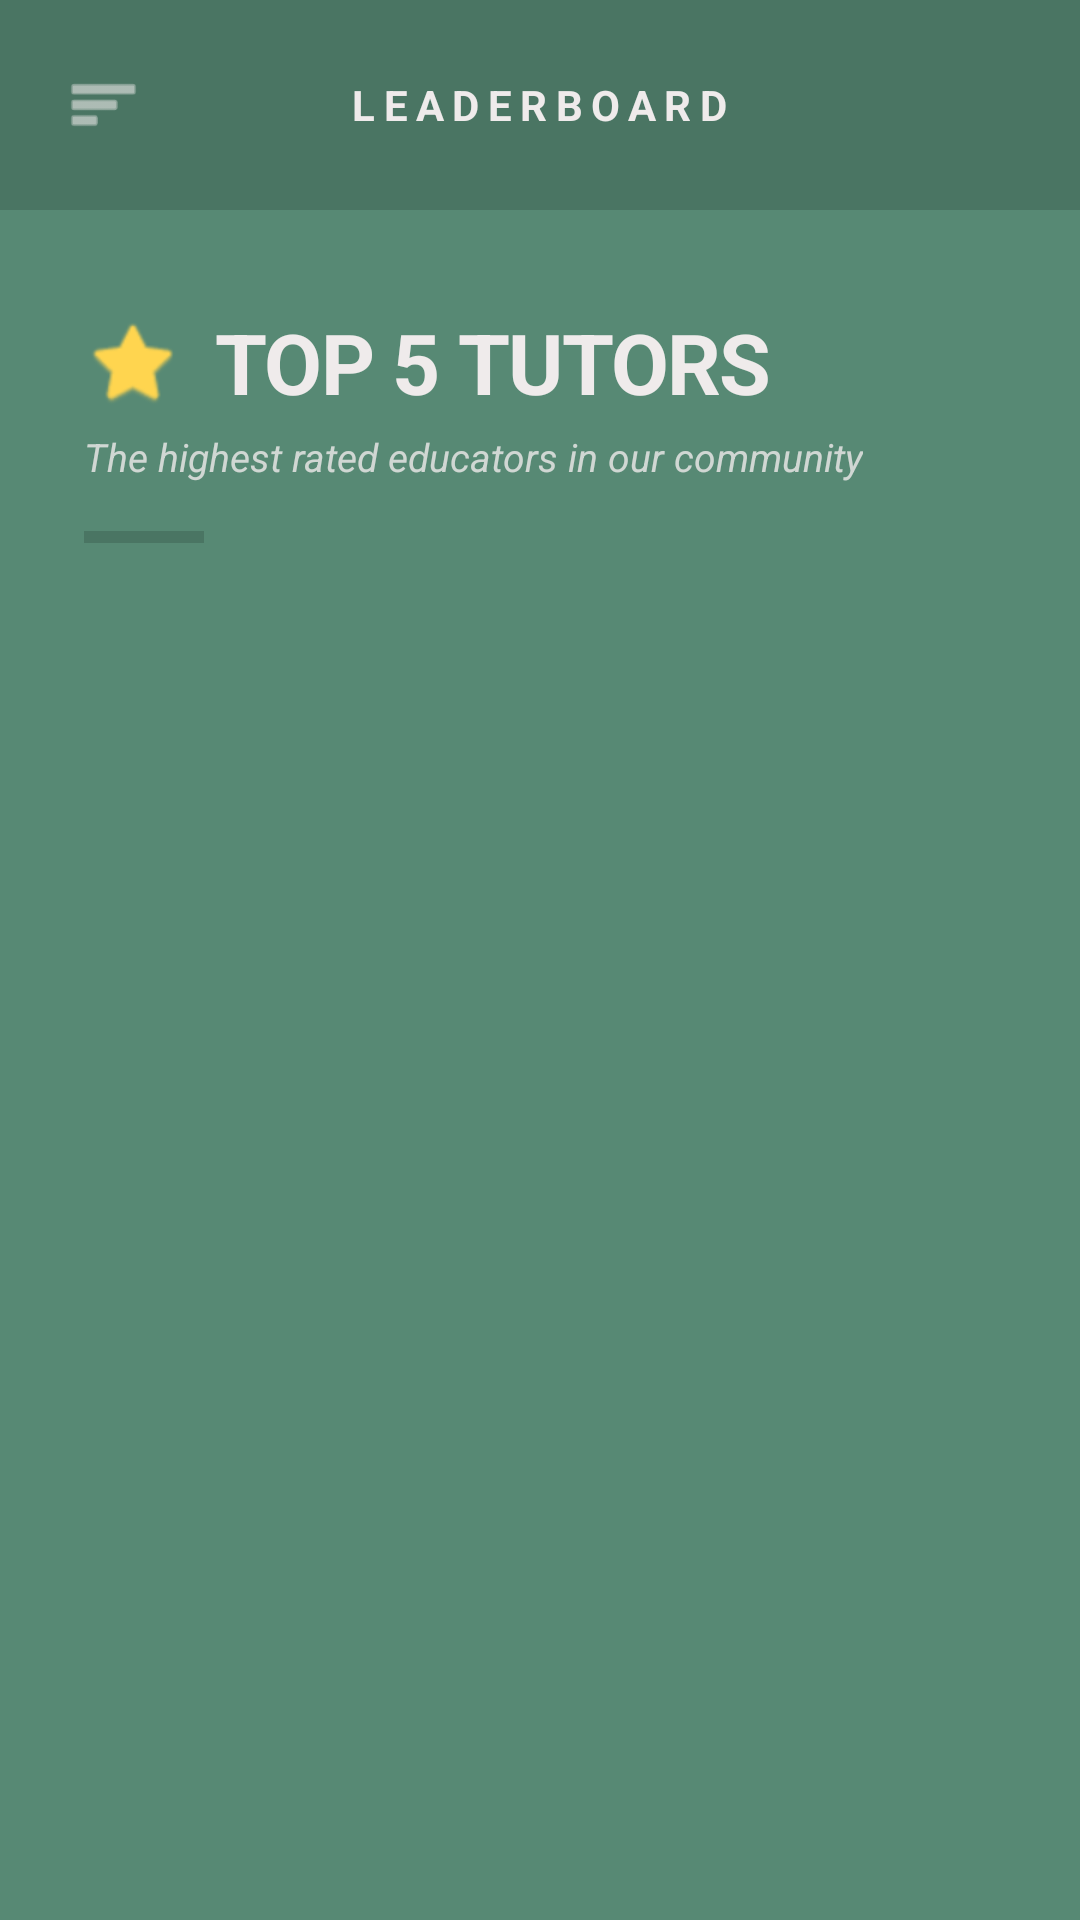

Named icons in this screenshot (1080w x 1920h) and their centers, [x,y]:
sort by size: [103,105]
star on: [133,362]
